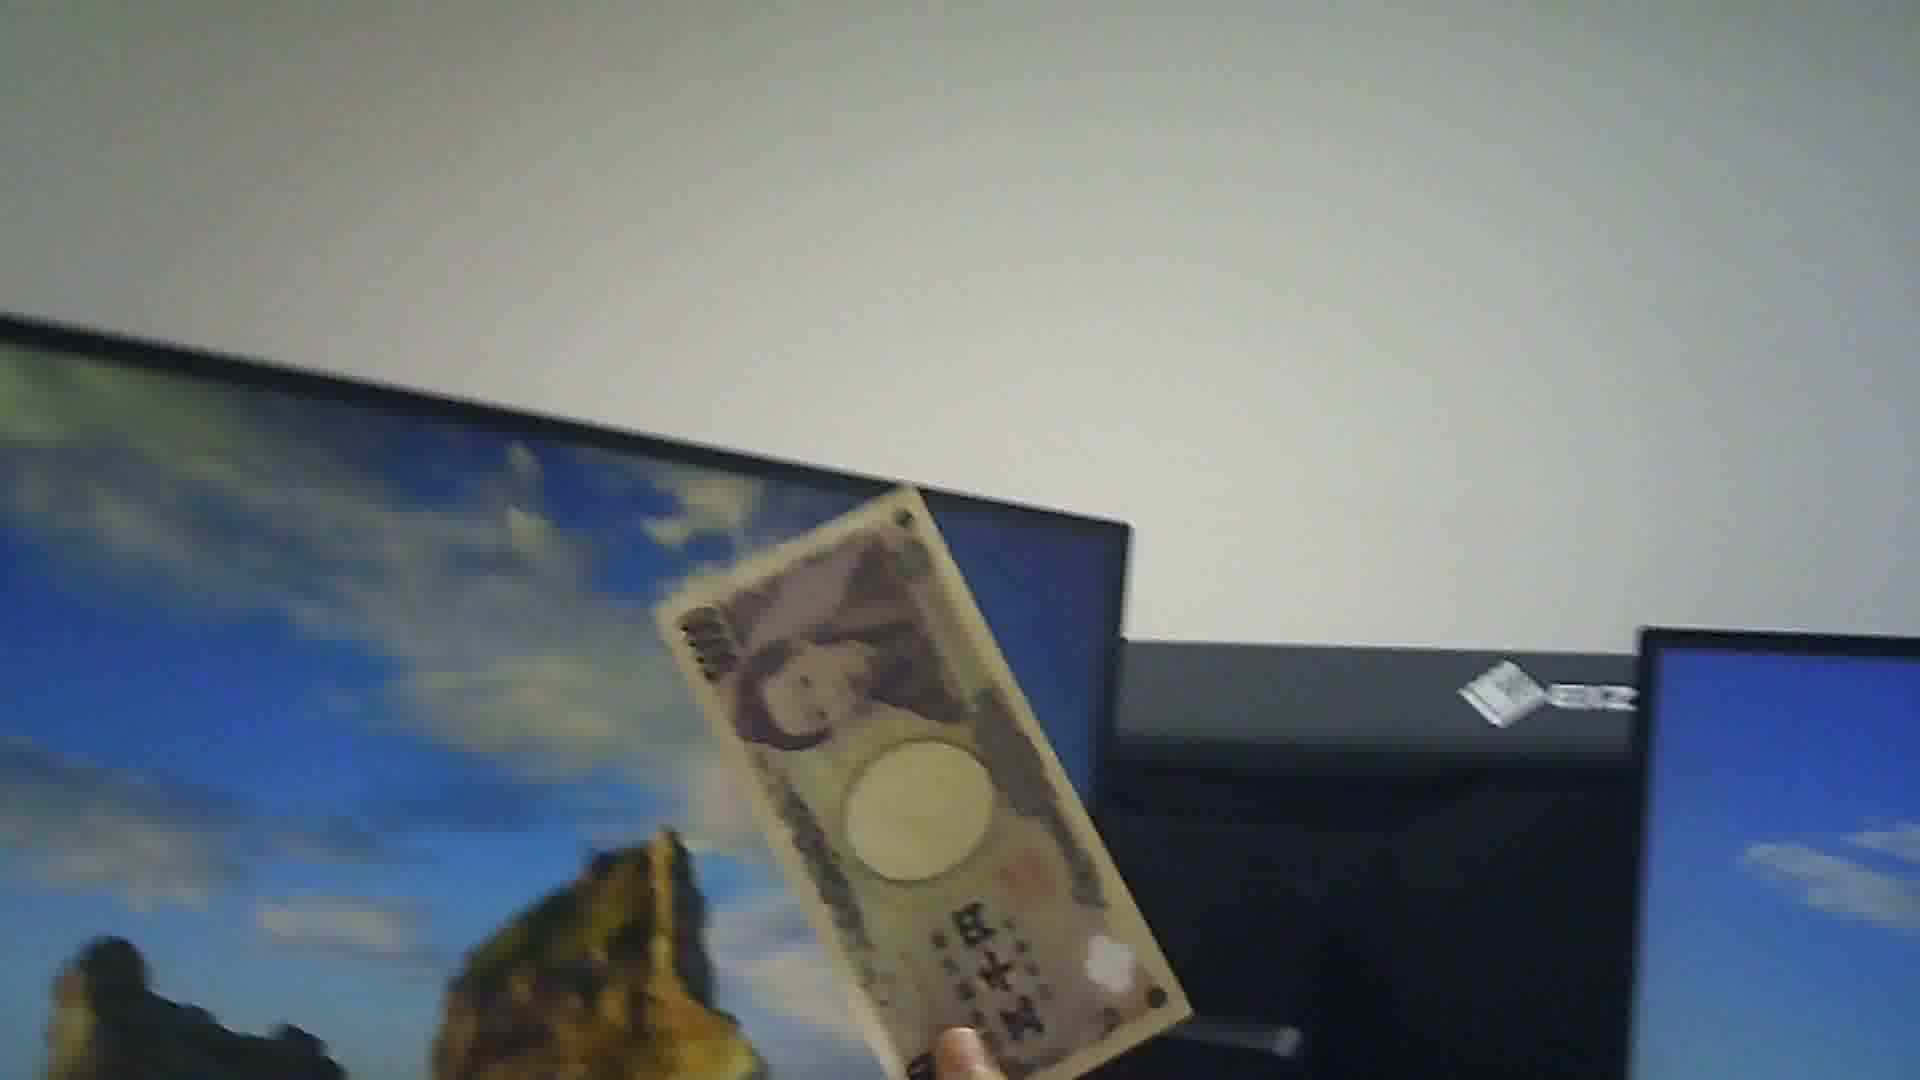5,000 Yen: (642, 498, 1196, 1079)
